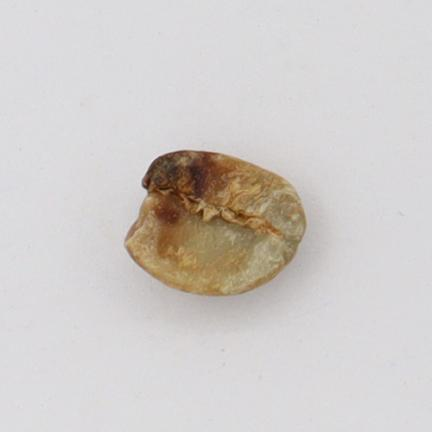broken: (125, 151, 305, 295)
